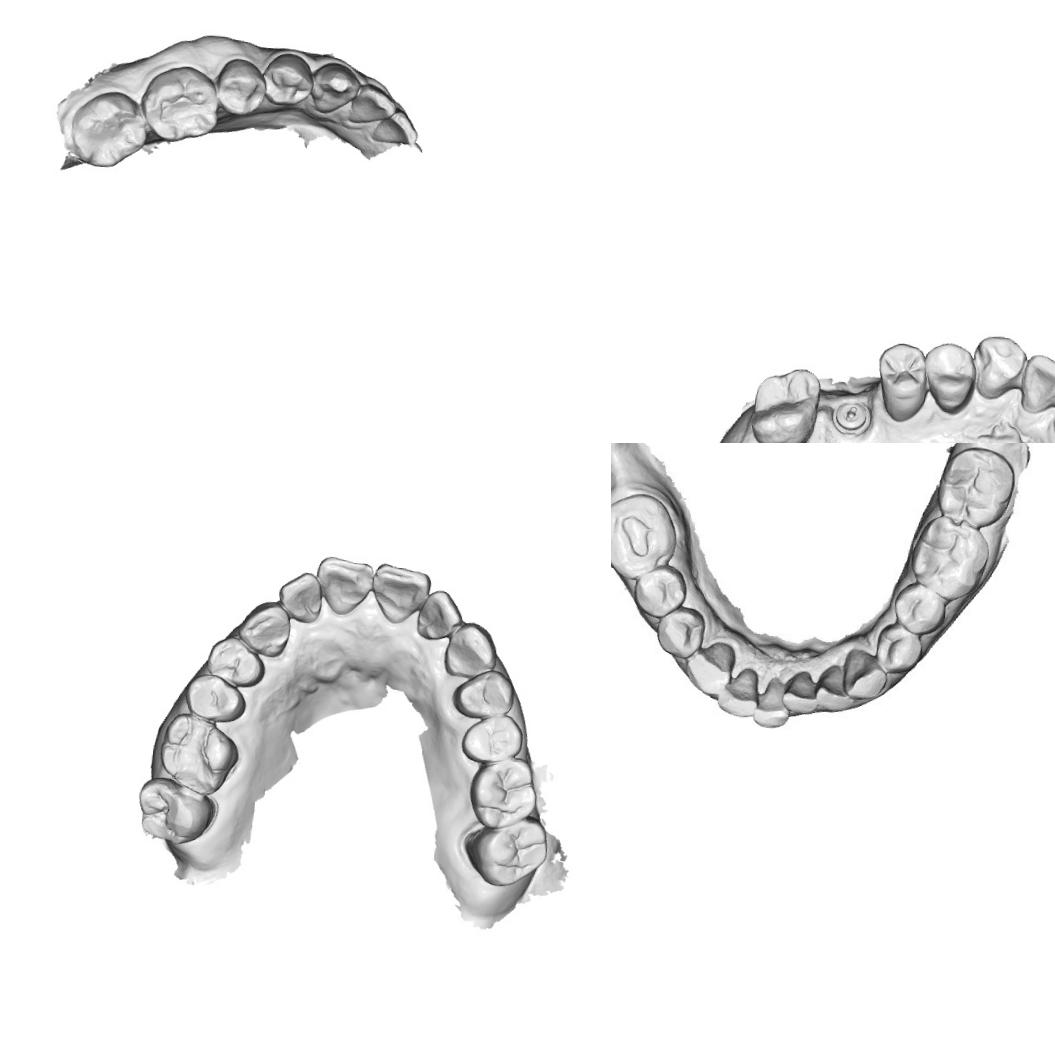canine: (966, 331, 1030, 403), (440, 617, 500, 681), (681, 636, 742, 697), (233, 597, 292, 658), (838, 642, 890, 706), (306, 59, 362, 117)
implant_minus: (831, 396, 870, 436)
incisor: (366, 560, 432, 627), (313, 551, 376, 618), (413, 586, 467, 644), (274, 566, 326, 625), (1015, 351, 1055, 419), (747, 674, 792, 731), (346, 80, 399, 127), (713, 666, 758, 718), (369, 107, 420, 148), (782, 668, 823, 714), (815, 664, 854, 710)
molar: (154, 710, 242, 799), (458, 808, 550, 891), (136, 60, 222, 146), (65, 86, 150, 171), (133, 773, 222, 848), (465, 750, 542, 834), (911, 513, 987, 597), (747, 362, 823, 443), (611, 491, 681, 577), (938, 450, 1014, 524)
premolar: (871, 336, 934, 424), (918, 336, 979, 416), (450, 665, 518, 722), (180, 670, 248, 726), (458, 709, 524, 765), (211, 56, 269, 118), (204, 632, 267, 689), (260, 49, 316, 108), (633, 565, 687, 616), (893, 584, 950, 631), (656, 608, 702, 656), (877, 626, 924, 671)
